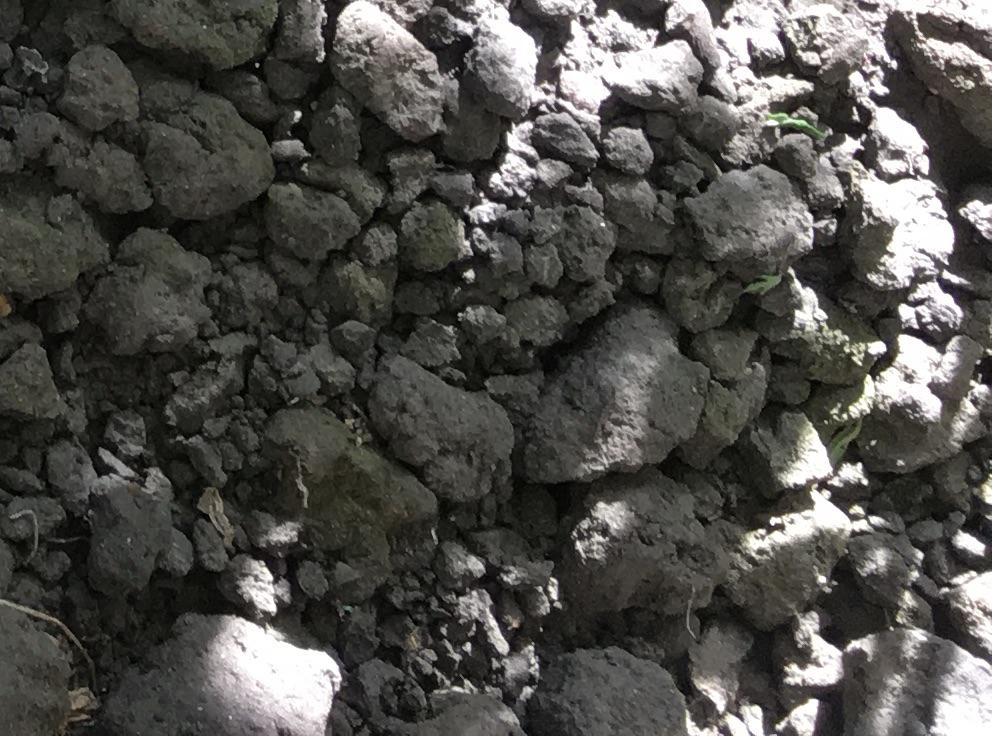block: (522, 302, 709, 485), (98, 615, 343, 736), (682, 164, 818, 283), (332, 3, 442, 143)
